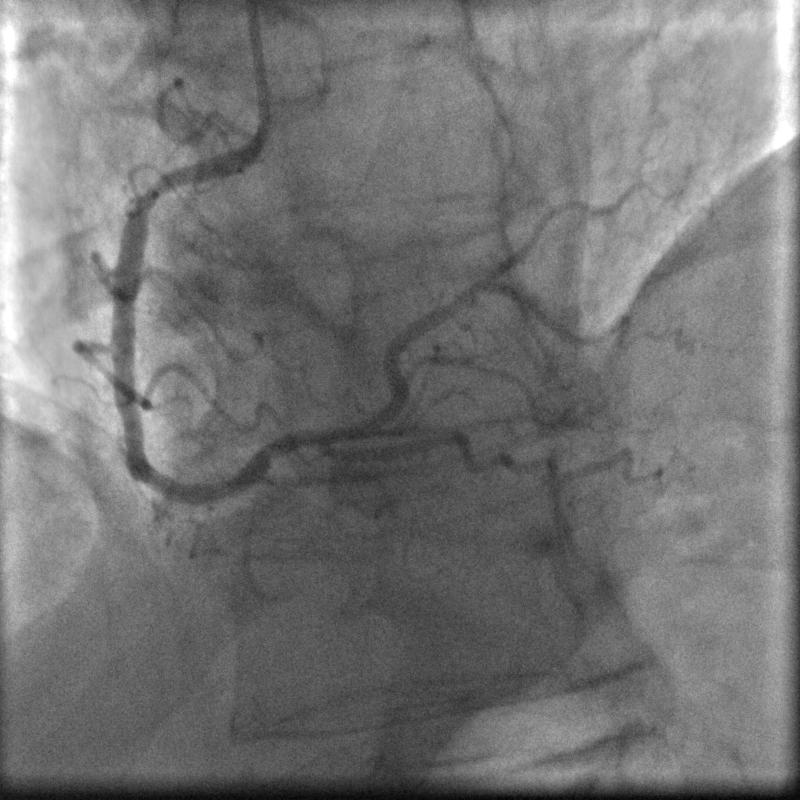Stenosis: (127, 171, 172, 207)
